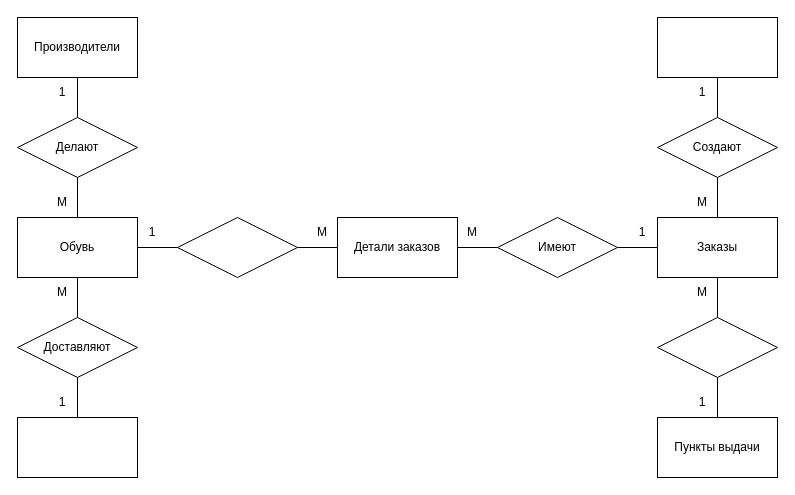
Some shapes in this 795 by 495 pixel diagram are drawn without their labels. The box of each missing label's shape, as (x1, y1, x2, y2) in pixels:
Находятся в: (656, 316, 778, 378)
Пользователи: (656, 16, 778, 78)
Поставщики: (16, 416, 138, 478)
Содержится в: (176, 216, 298, 278)
